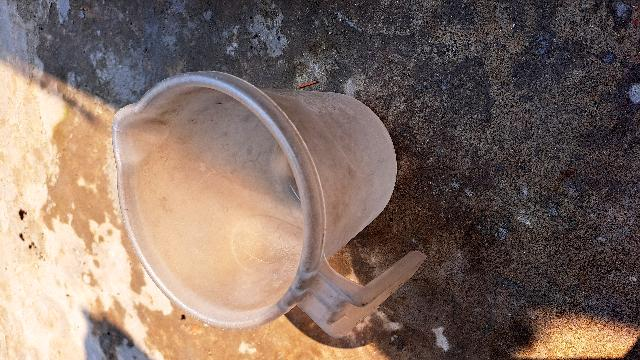hardplastic: (78, 66, 438, 342)
